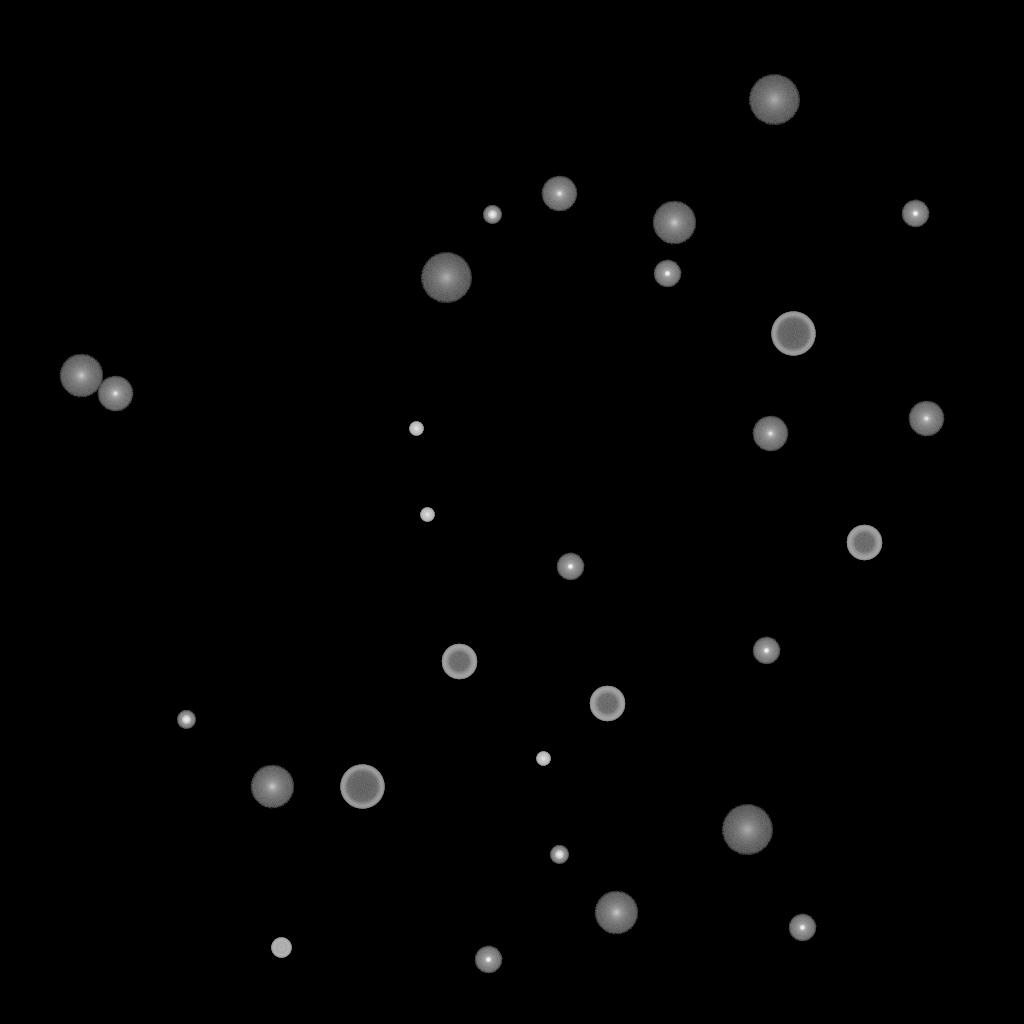depth:-10: (752, 637, 780, 665), (788, 914, 816, 942), (474, 946, 502, 974), (901, 200, 929, 228), (653, 260, 681, 288), (556, 553, 584, 581)
depth:-20: (177, 711, 195, 729), (550, 846, 568, 864), (483, 206, 501, 224)
depth:-30: (536, 752, 550, 766), (409, 422, 423, 436), (420, 508, 434, 522)
depth:-40: (271, 938, 291, 958)
depth:-60: (441, 644, 477, 680), (846, 525, 882, 561), (589, 686, 625, 722)
depth:-70: (340, 765, 384, 809), (771, 312, 815, 356)
depth:0: (541, 176, 577, 212), (752, 416, 788, 452), (908, 401, 944, 437), (97, 376, 133, 412)
depth:10: (59, 354, 103, 398), (652, 201, 696, 245), (594, 891, 638, 935), (250, 765, 294, 809)
depth:20: (721, 805, 773, 855), (748, 75, 800, 125), (420, 253, 472, 303)
